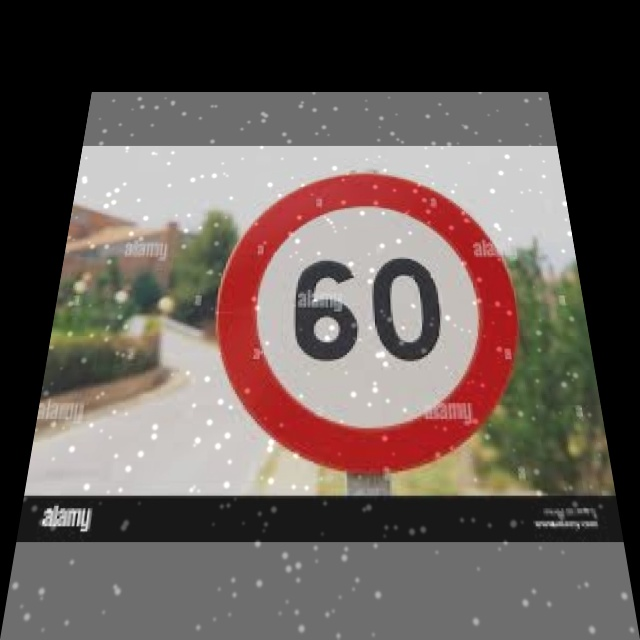Speed_Limit_60: (212, 174, 532, 459)
